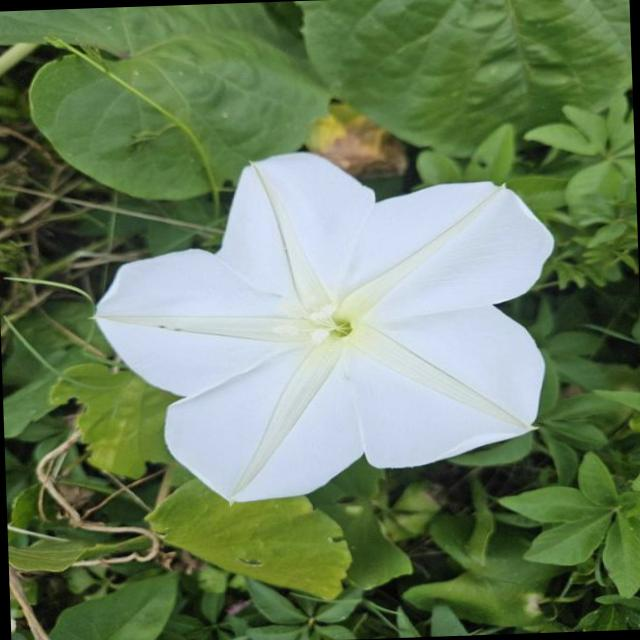ipomoea: (82, 141, 566, 511)
